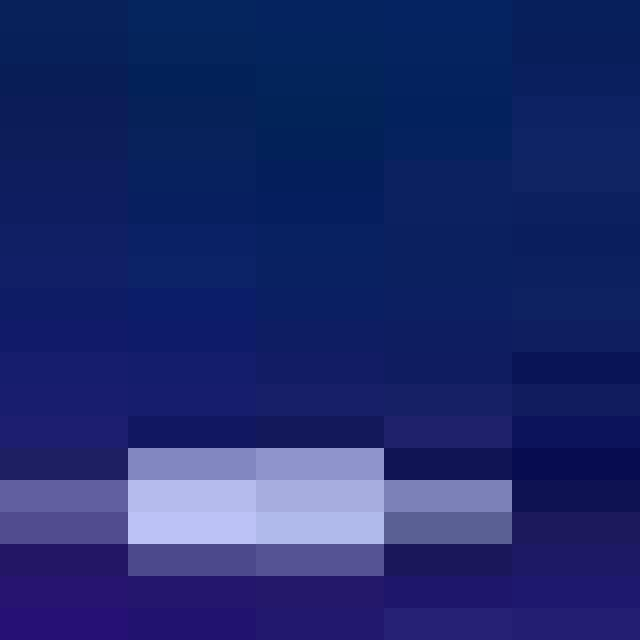.: (16, 410, 639, 623)
